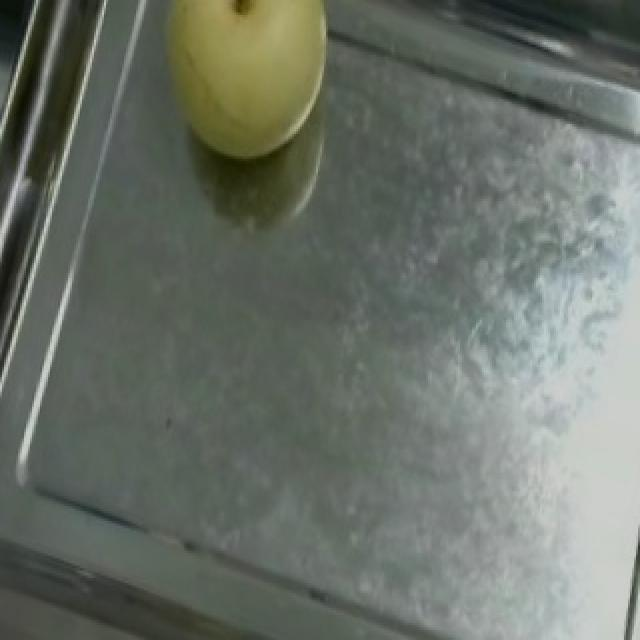Fruit: (128, 0, 360, 191)
